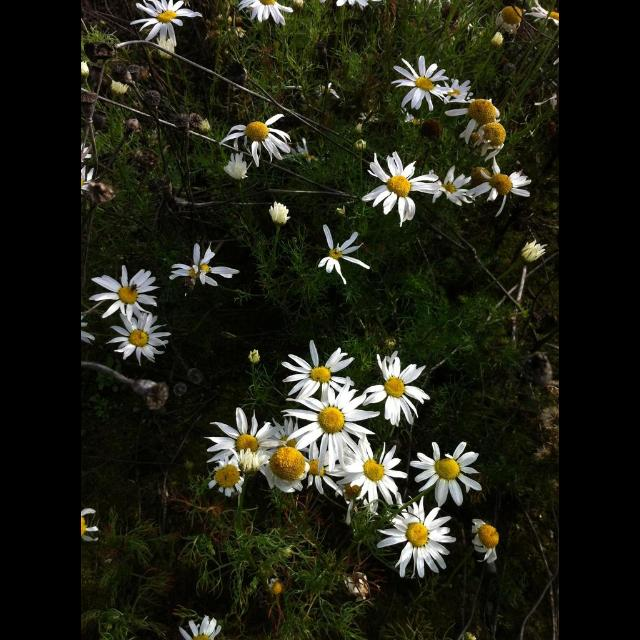Flower: (277, 378, 375, 477), (370, 497, 460, 579), (409, 434, 483, 510), (204, 403, 278, 471), (366, 142, 432, 214), (342, 436, 406, 508), (366, 351, 428, 424), (470, 154, 536, 218), (218, 110, 290, 168), (284, 341, 352, 402), (86, 260, 162, 314), (258, 418, 310, 492), (108, 309, 168, 366), (169, 240, 239, 288), (134, 0, 200, 48), (317, 222, 368, 284), (392, 53, 444, 107), (442, 97, 500, 145), (304, 440, 341, 494), (431, 165, 477, 207), (234, 0, 294, 24), (210, 457, 244, 499), (468, 519, 498, 561), (174, 614, 222, 640), (436, 75, 474, 105), (220, 149, 248, 179), (520, 237, 548, 266), (266, 200, 294, 228), (81, 507, 99, 545), (331, 0, 373, 8), (81, 166, 89, 200), (247, 347, 260, 363)
